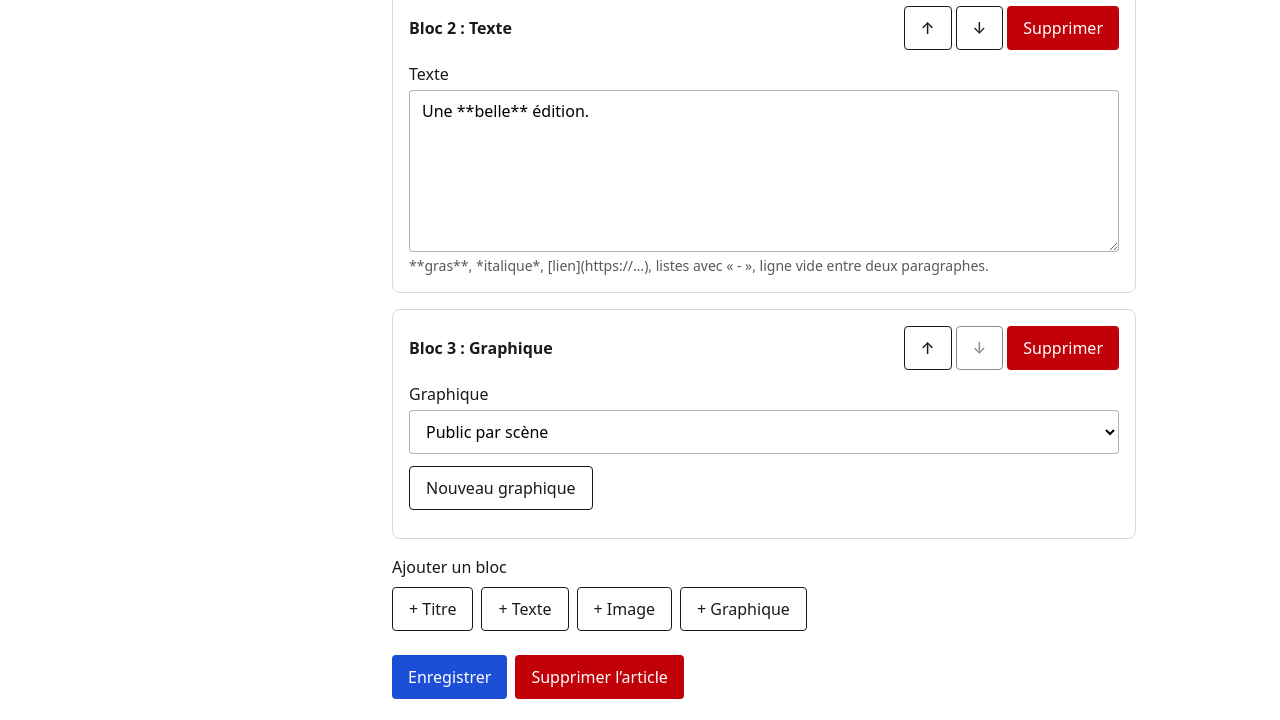
article editor › shows server errors on the blocks concerned
(page scrolled)
Step 1. Click the button "Enregistrer" → point(450, 677), box [392, 655, 507, 699]
(page scrolled)
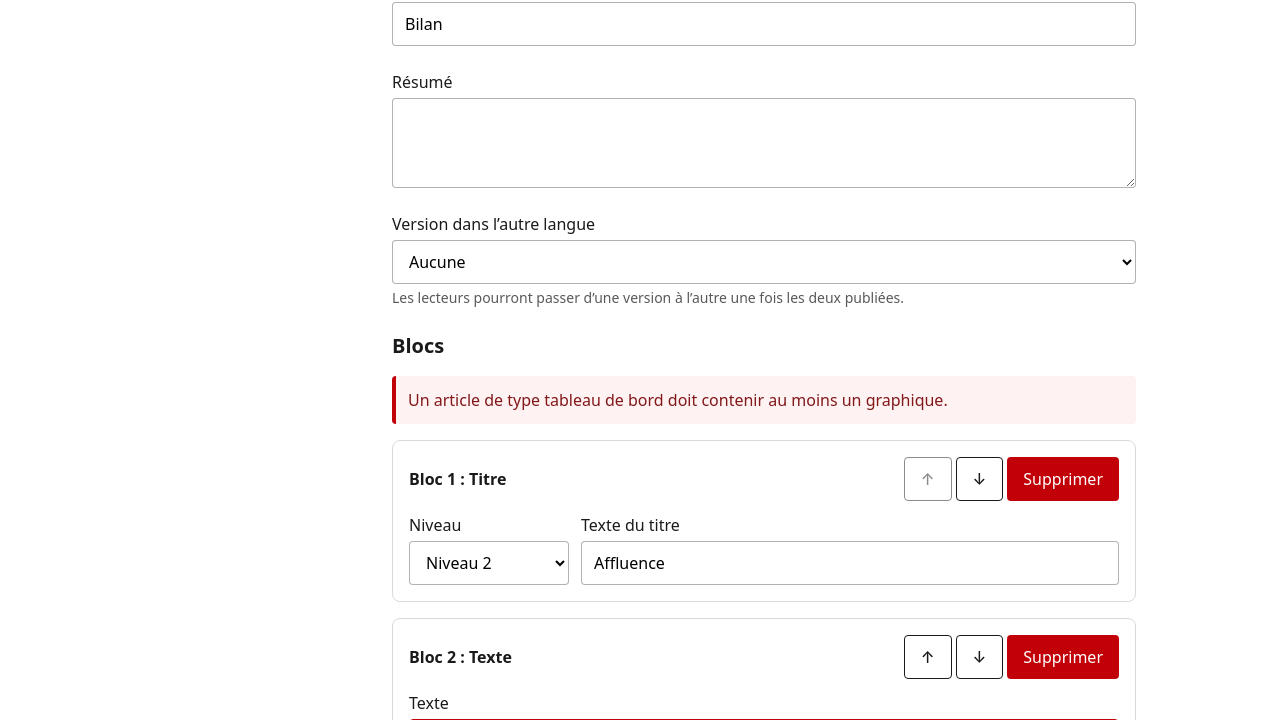
Result: the text "Un article de type tableau de bord doit contenir au moins un graphique." is shown at [392, 376, 1136, 424]
